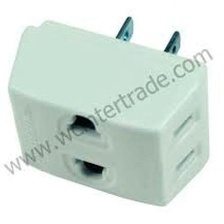three_eye_plug: (2, 8, 215, 216)
